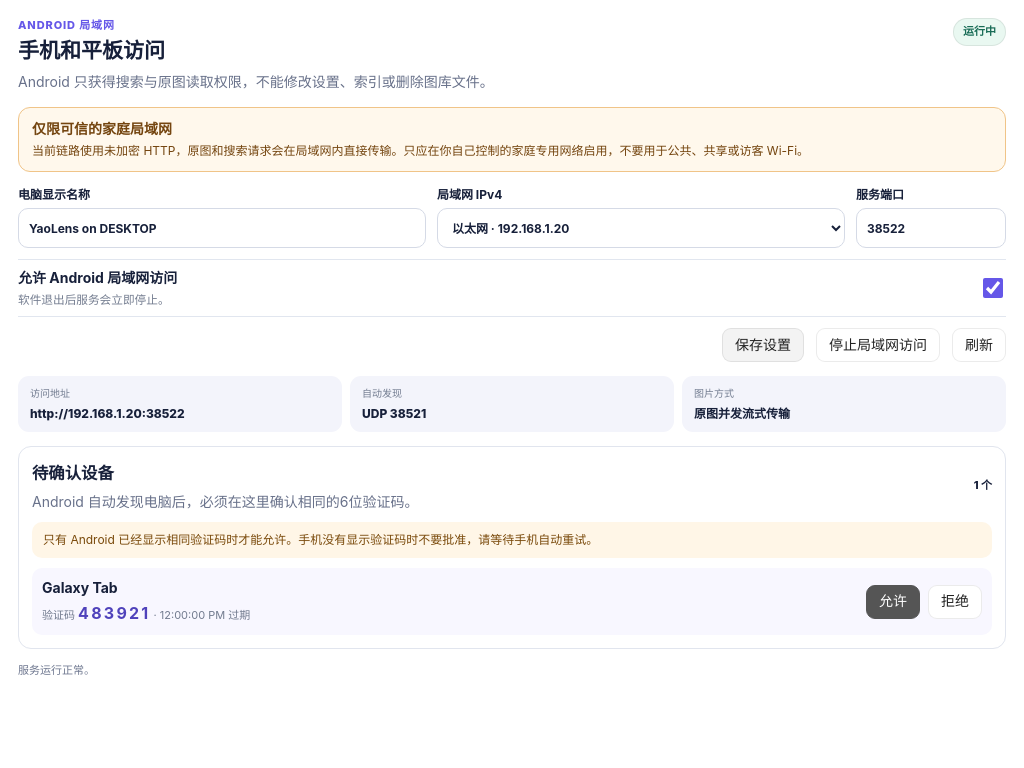
Test case: LanAccessSection › approves a pending Android device without receiving its bearer token
Click the button "允许". click: (893, 602)
box: [866,584,920,618]
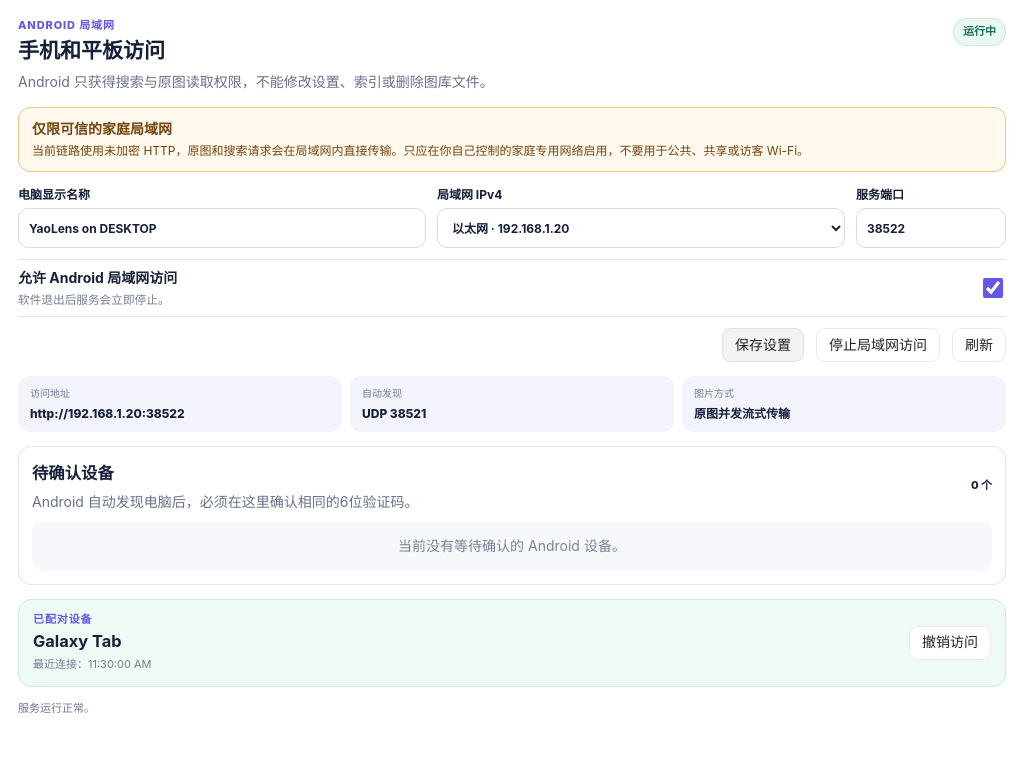
Expected: the text "已配对设备" is shown, [33,612,92,626]
